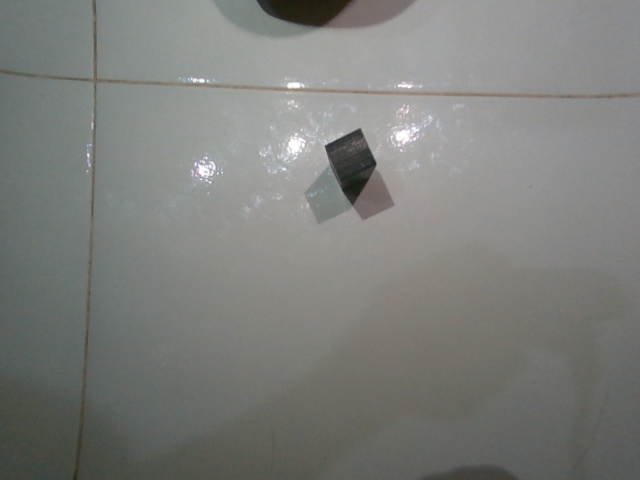Balok-Hitam: (322, 131, 376, 182)
